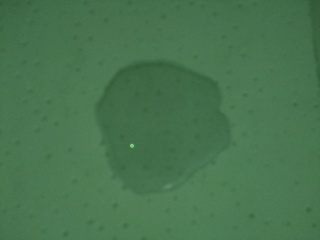Water_detected: (107, 81, 207, 181)
